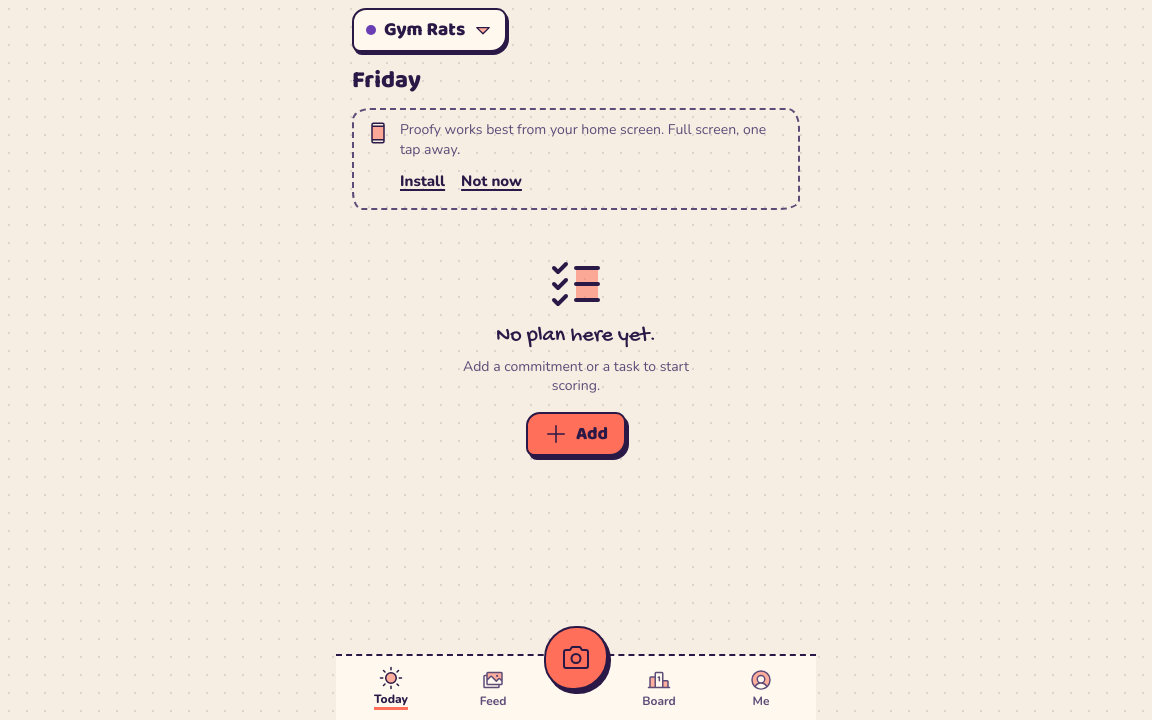
Test: Plan sheet (add a commitment) › Times per week shows the Stepper at 3
This screenshot has width=1152, height=720.
Click the button with aria-label "Add a commitment or task".
click(576, 434)  # box x1=526 y1=412 x2=626 y2=456
(page scrolled)
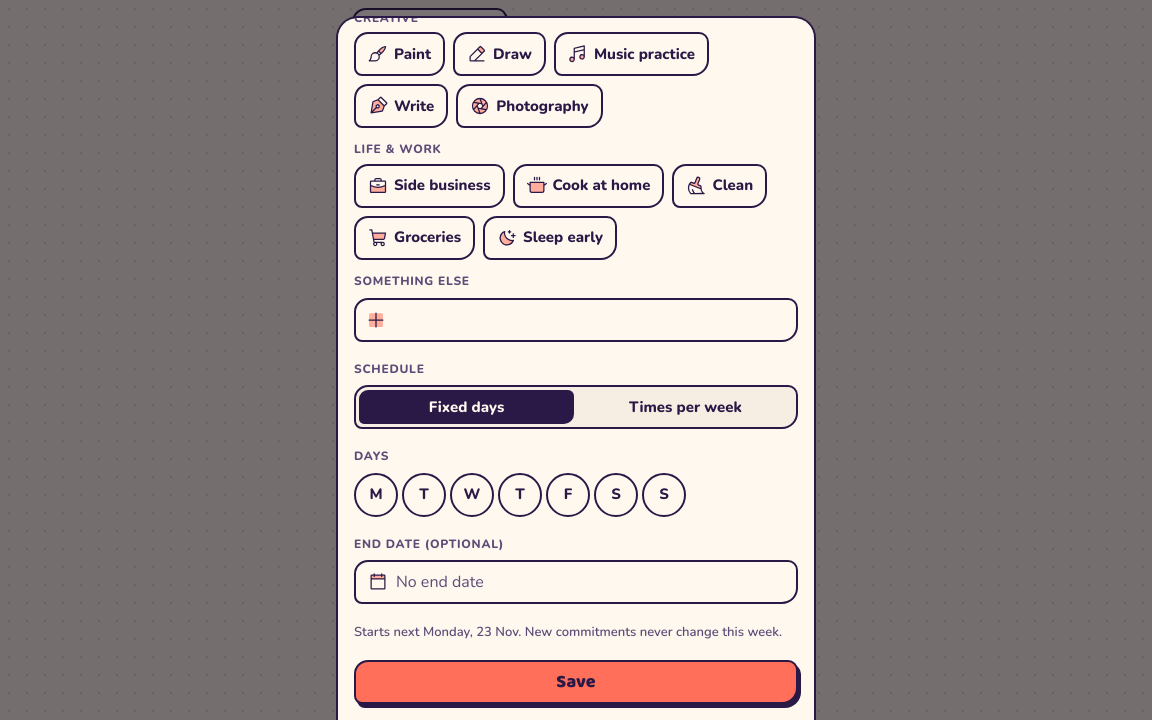
Check: the text "Starts next Monday, 23 Nov. New commitments never change this week." is shown, box x1=354 y1=624 x2=798 y2=642
Click the radio button labelled "Times per week".
click(686, 407)  # box x1=578 y1=390 x2=793 y2=424
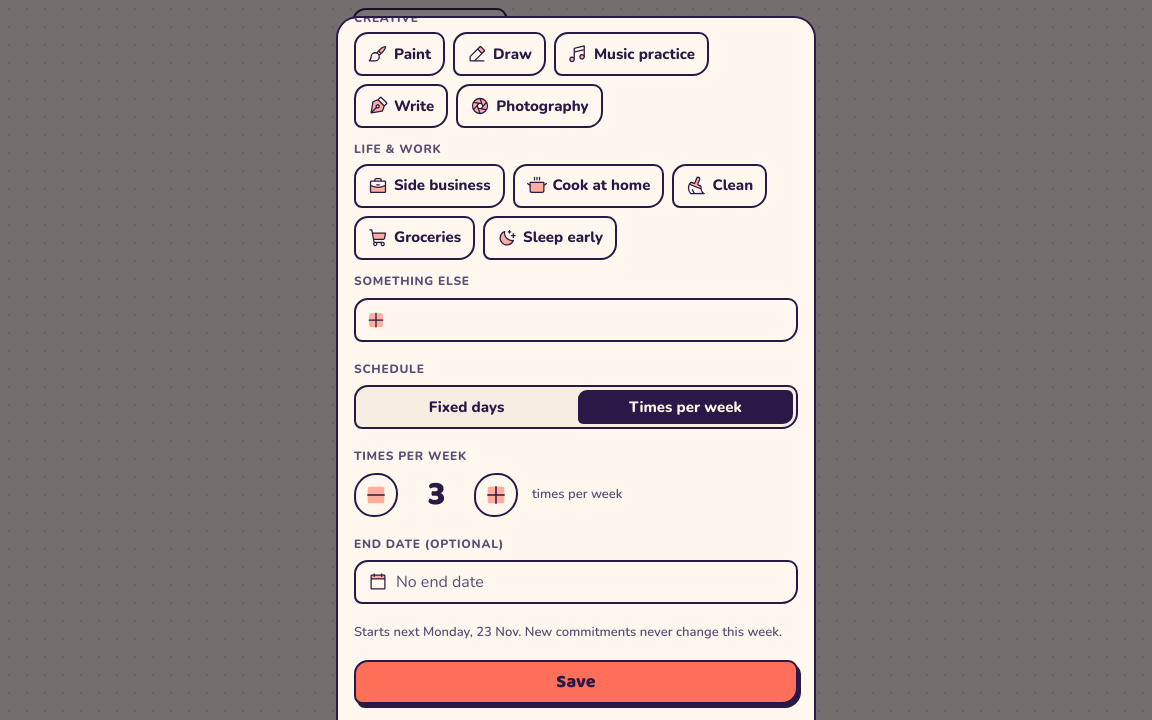
Check: the element "times per week" reads "3 times per week", box x1=354 y1=466 x2=709 y2=522
